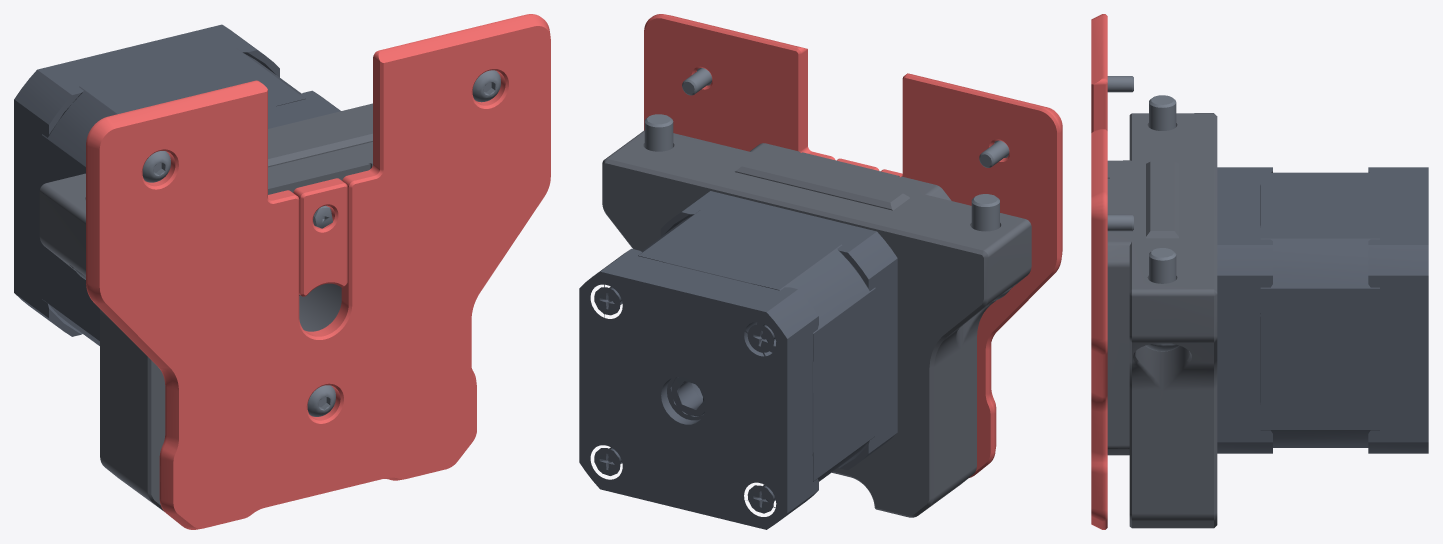
3 views of the same model, side by side, from view 1: azimuth 30°, elevation 25°; view 2: azimuth 150°, elevation 25°; view 3: azimuth 270°, elevation 25° (orthographic). The views are drawn at different scales.
Visible parts, largest first — view 1: [a]_z_cover_rear, motor_body, z_stepper_rear, [a]_z_cover_rear_2, m3x6_bhcs_v1__1_, m3x6_bhcs_v1__1__14, m3x6_bhcs_v1__1__13; view 2: motor_body, z_stepper_rear, [a]_z_cover_rear, m5x16_bhcs_v1__2_, m5x16_bhcs_v1__2__10; view 3: motor_body, z_stepper_rear, [a]_z_cover_rear, m5x16_bhcs_v1__2__10, m5x16_bhcs_v1__2_, m3x6_bhcs_v1__1__14, m3x6_bhcs_v1__1_.
Boxes of the visible parts, left/top/right/bottom form: [a]_z_cover_rear: left=86, top=14, right=550, bottom=529; motor_body: left=14, top=24, right=340, bottom=345; z_stepper_rear: left=39, top=103, right=372, bottom=511; [a]_z_cover_rear_2: left=293, top=178, right=347, bottom=296; m3x6_bhcs_v1__1_: left=142, top=151, right=170, bottom=182; m3x6_bhcs_v1__1__14: left=472, top=70, right=500, bottom=102; m3x6_bhcs_v1__1__13: left=307, top=385, right=335, bottom=416; motor_body: left=579, top=191, right=897, bottom=529; z_stepper_rear: left=602, top=130, right=1031, bottom=517; [a]_z_cover_rear: left=644, top=14, right=1062, bottom=477; m5x16_bhcs_v1__2_: left=971, top=194, right=1011, bottom=301; m5x16_bhcs_v1__2__10: left=644, top=114, right=673, bottom=151; motor_body: left=1217, top=167, right=1428, bottom=453; z_stepper_rear: left=1107, top=113, right=1217, bottom=528; [a]_z_cover_rear: left=1091, top=14, right=1107, bottom=529; m5x16_bhcs_v1__2__10: left=1145, top=248, right=1179, bottom=351; m5x16_bhcs_v1__2_: left=1149, top=95, right=1176, bottom=130; m3x6_bhcs_v1__1__14: left=1107, top=214, right=1133, bottom=231; m3x6_bhcs_v1__1_: left=1107, top=76, right=1133, bottom=92.
Size of the model in its own units: 0.084 by 0.0752 by 0.0616.
